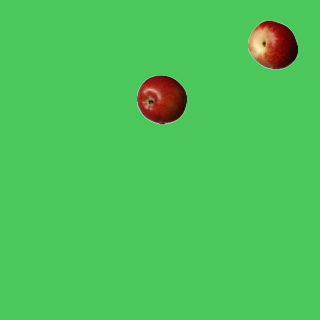Apple Braeburn: (136, 74, 186, 124)
Nectarine: (247, 19, 297, 69)
